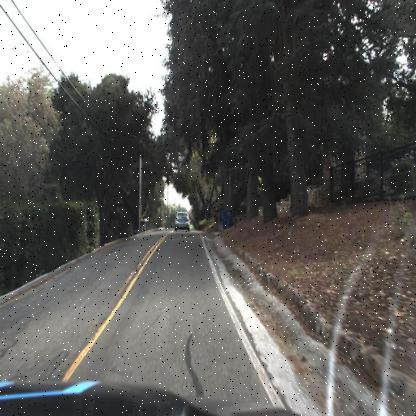car: (171, 205, 191, 235)
